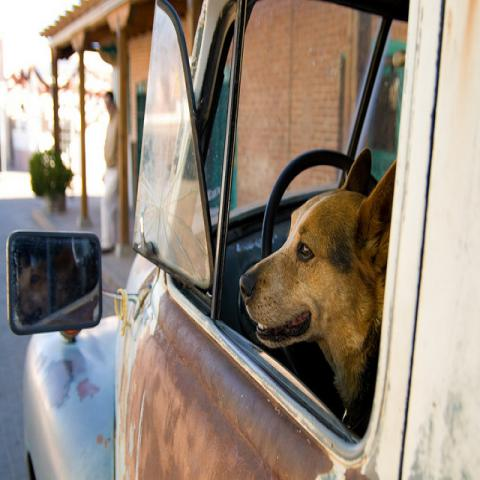car: (6, 0, 479, 479)
truck: (5, 0, 479, 479)
